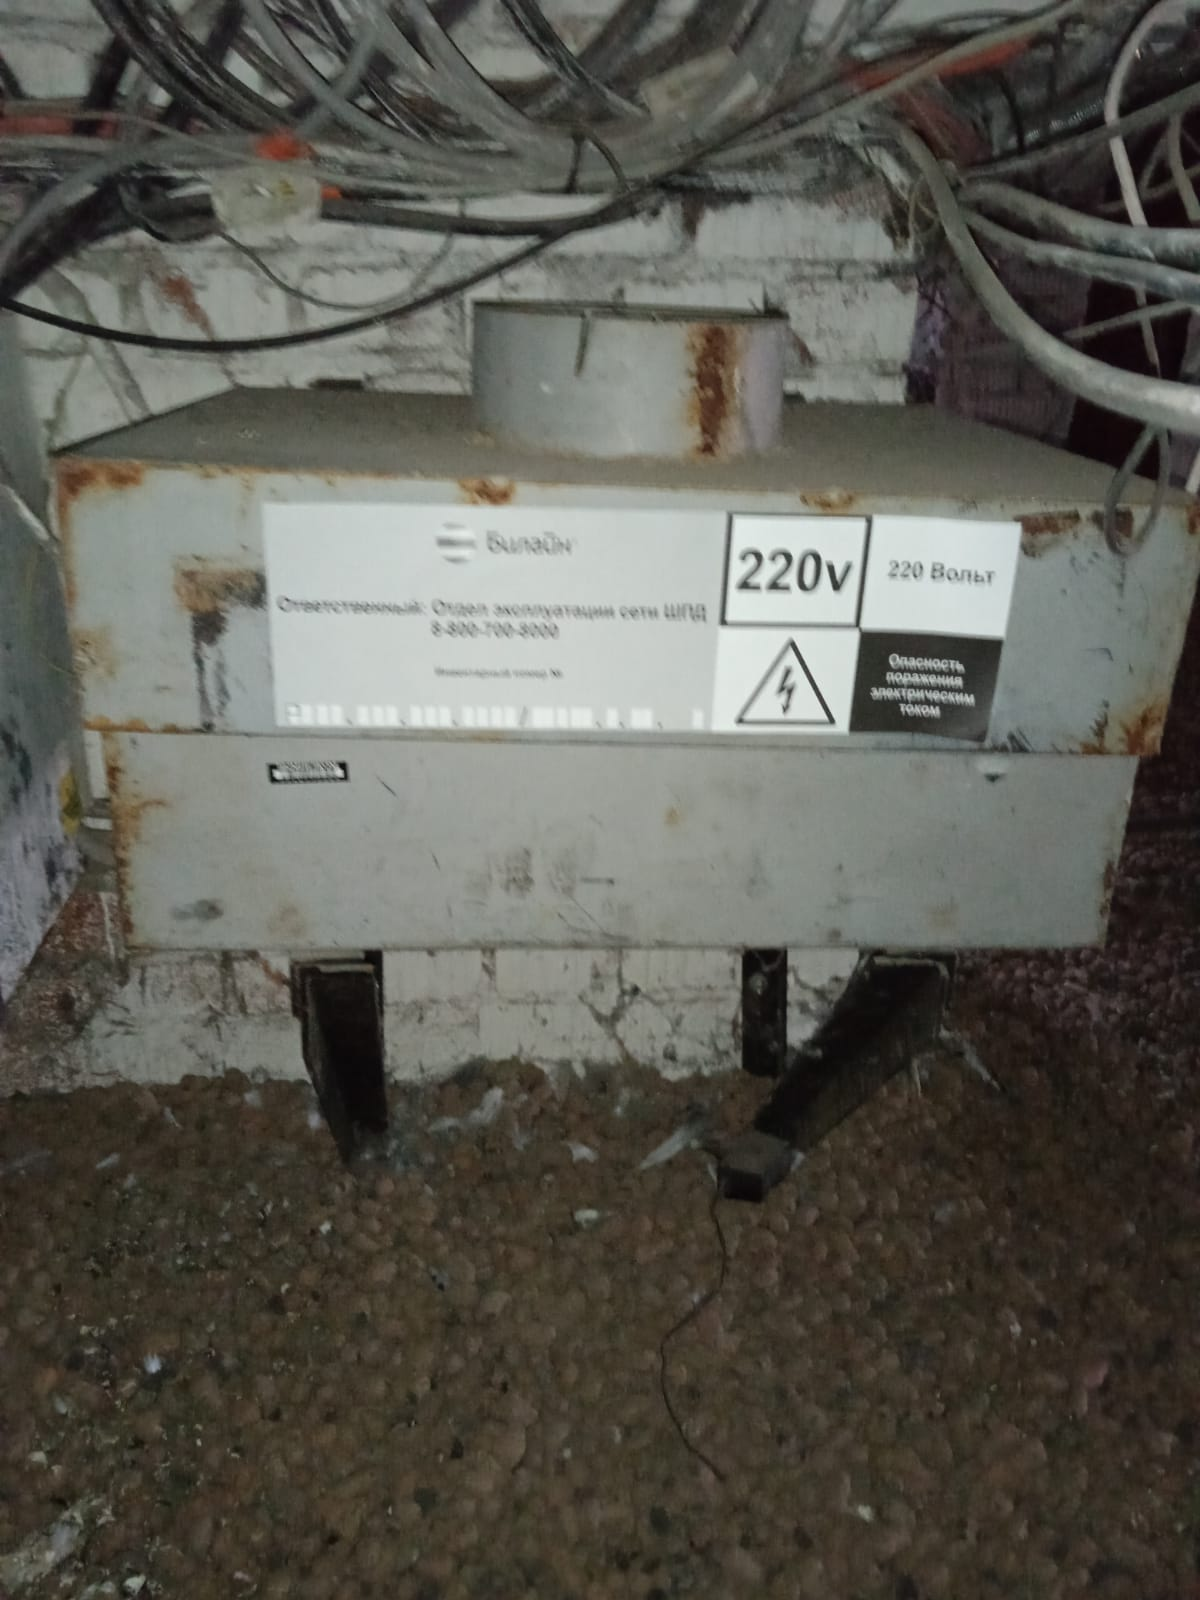shta-ps: (33, 268, 1176, 993)
